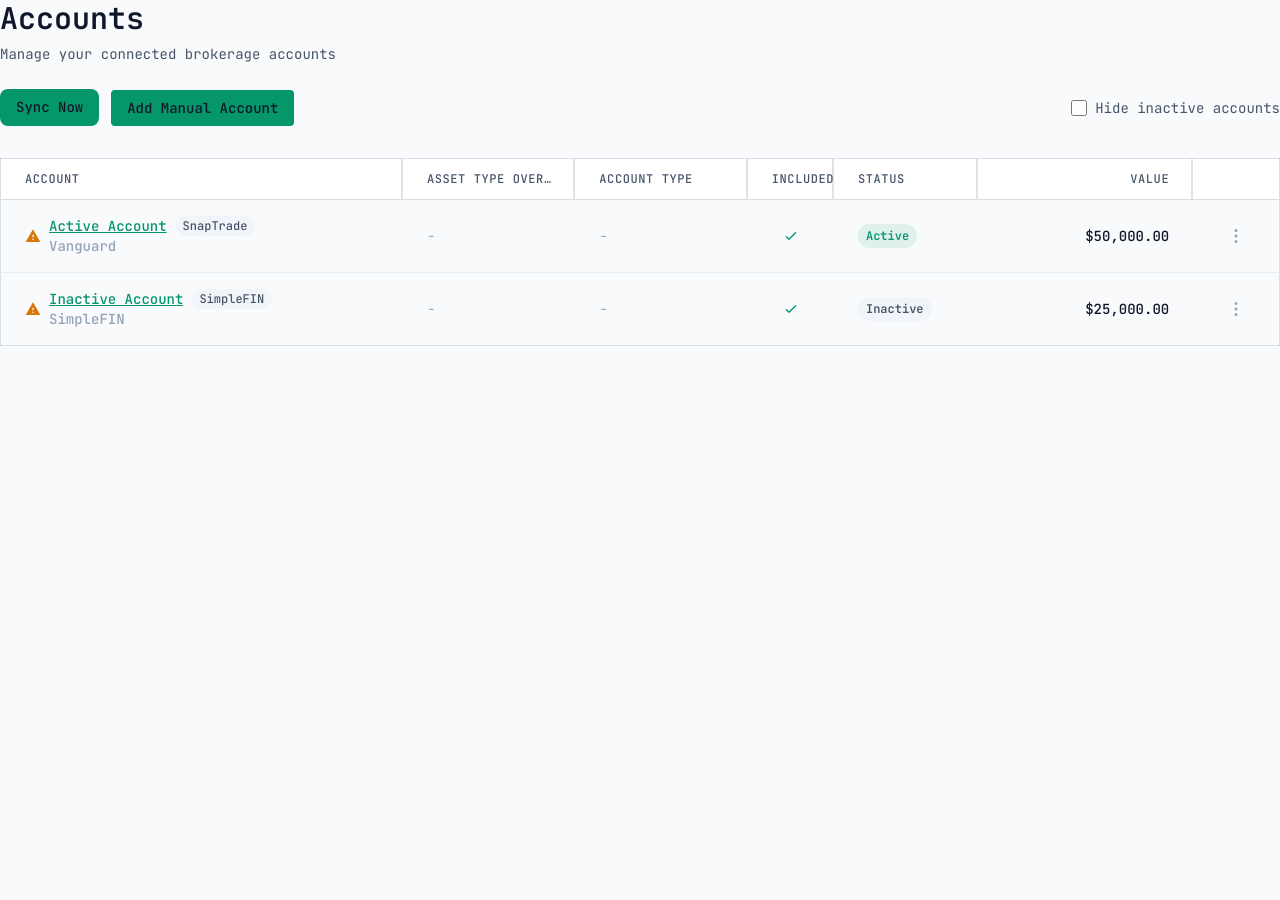
AccountsPage › opens manual account modal when button is clicked
What coordinates should you click on to do the following:
click the button with test id "add-manual-account-button"
I would click on:
 (203, 108)
Its box is 111,90 -> 294,126.
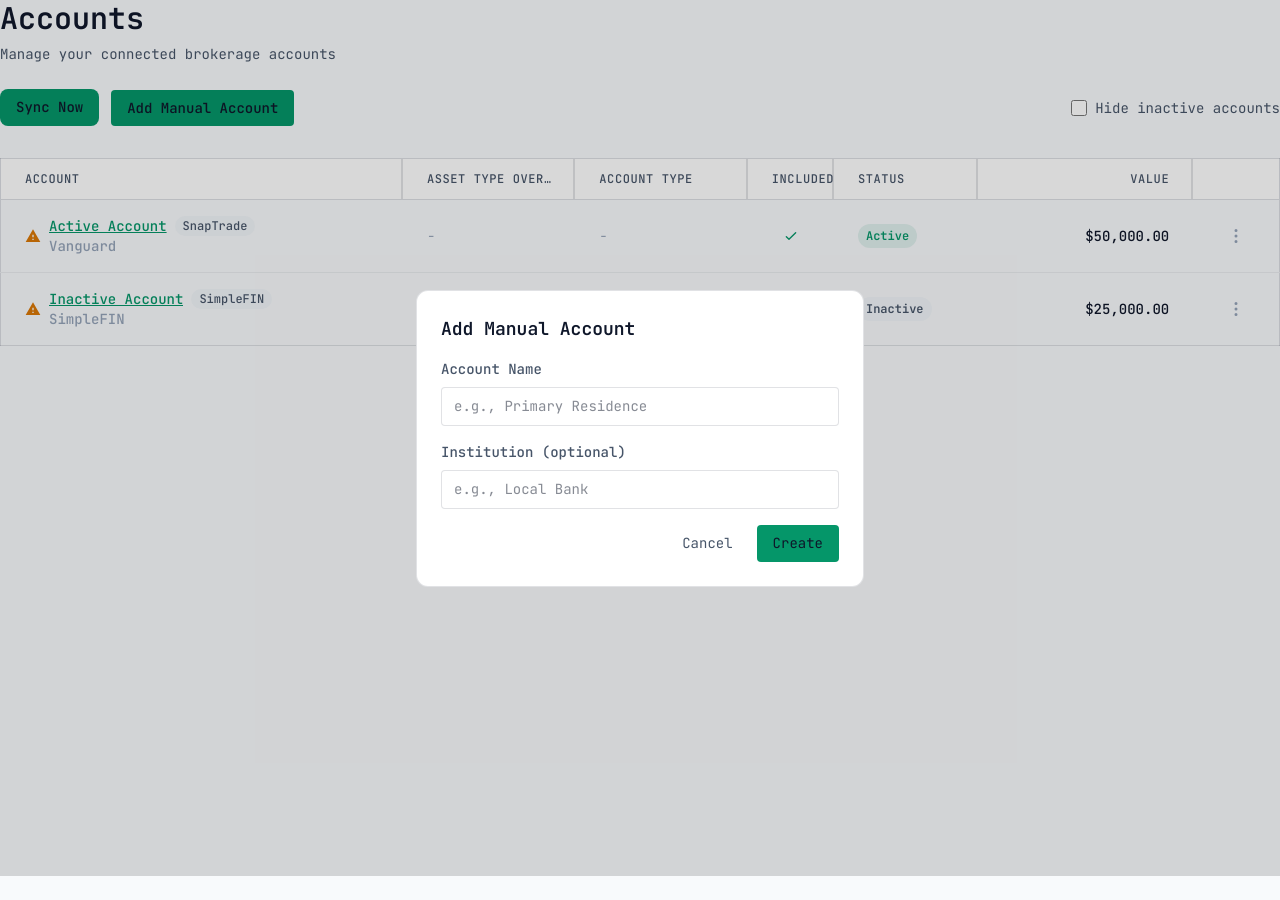
Expected: the heading "Add Manual Account" is shown, 441,316 -> 635,340
Expected: the field with test id "manual-account-name" is shown, 441,386 -> 839,426
